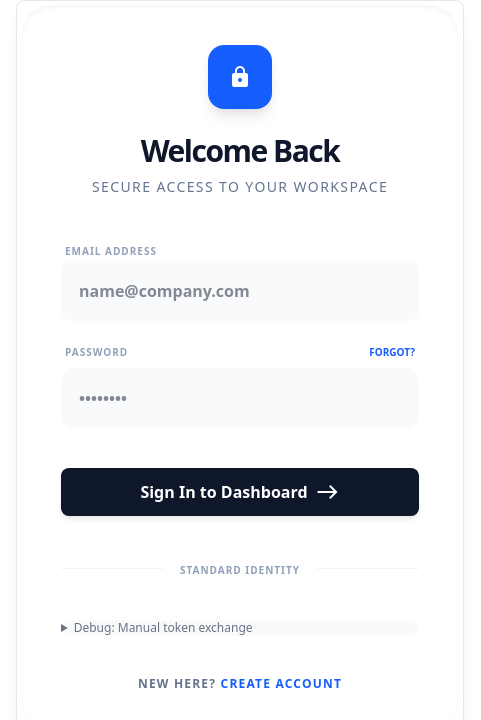
Scenario: LoginForm › displays error message on failed login
Type "test@example.com" into the field labelled "Email Address" at (240, 291), box [61,261,419,321]
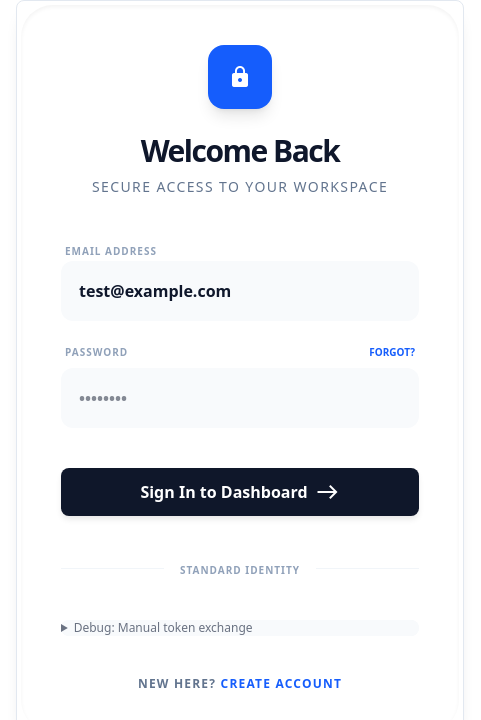
Type "Wrongpass1" into the password field labelled "Password" at (240, 398), box [61,368,419,428]
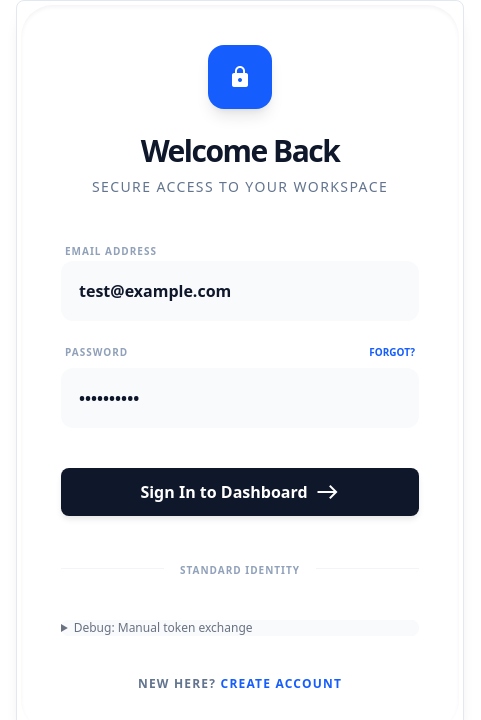
Click the button "Sign In to Dashboard" at (240, 492), box [61,468,419,516]
(page scrolled)
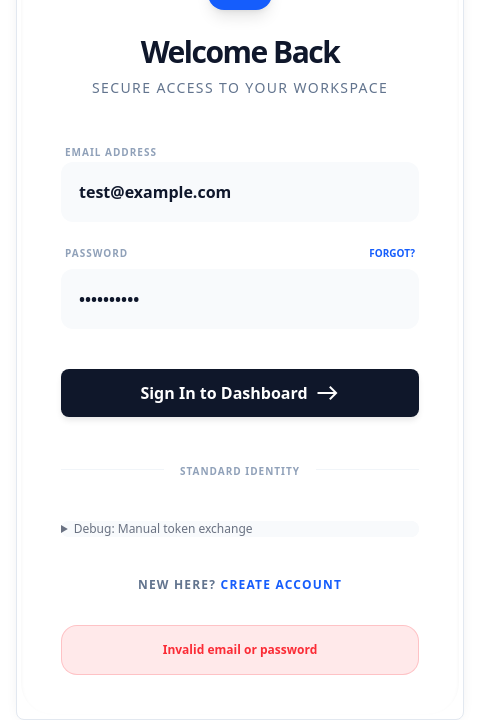
Check: the text "Invalid email or password" is shown, box [61,625,419,675]
